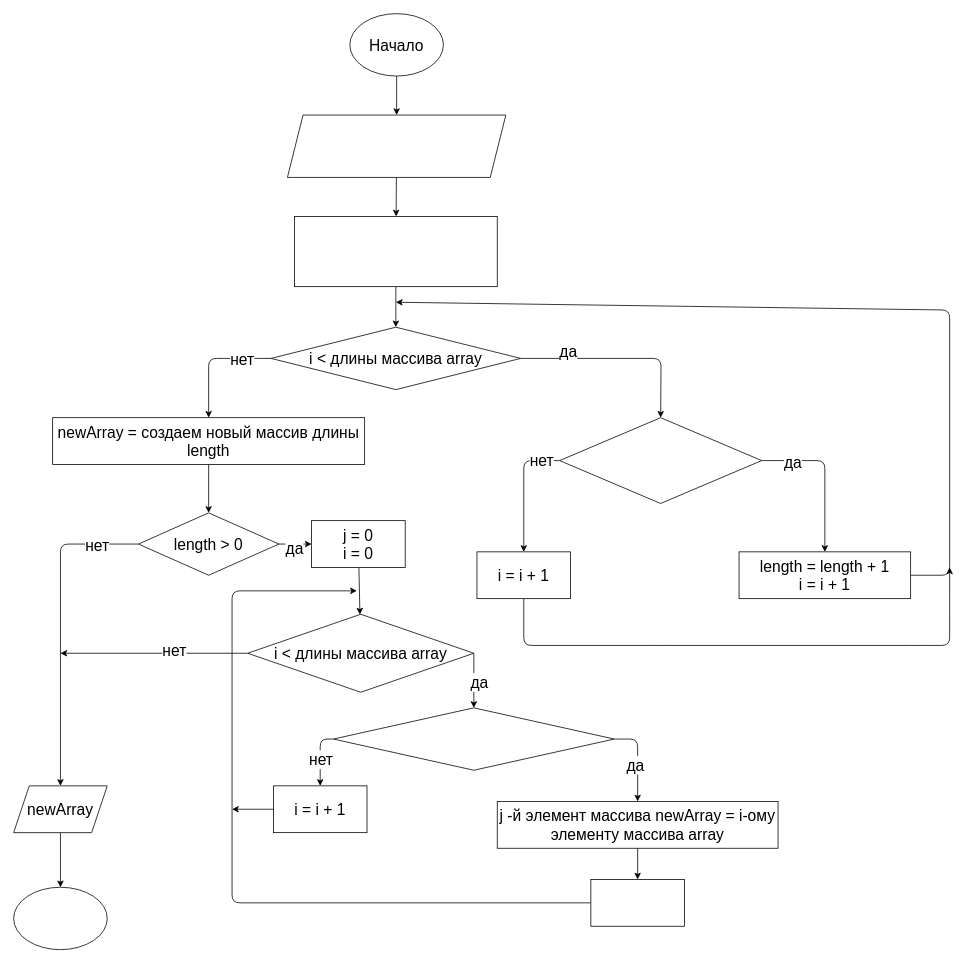
Image size: 970x963. Some labels were removed from this diagram. Here are the shapes that lost their labels. From the top down, the centre of each, then its label:
At (x=396, y=145): "array".
At (x=395, y=251): "i = 0 length = 0".
At (x=660, y=460): "длина i-го элемента массива array < 4".
At (x=473, y=738): "длина i-го элемента массива < 4".
At (x=60, y=918): "END".
At (x=637, y=902): "i = i + 1 j = j + 1".
